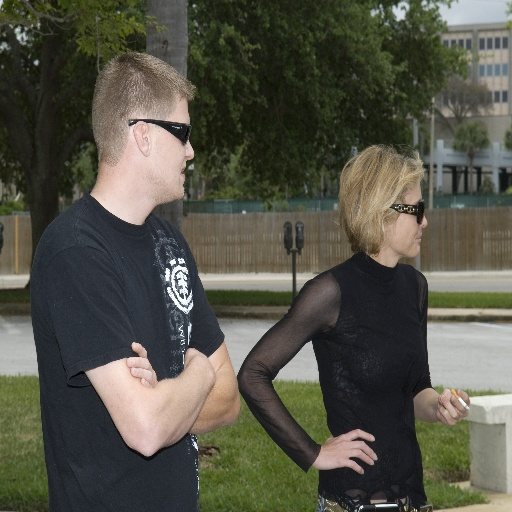hand: (320, 429, 385, 487), (125, 340, 158, 388), (434, 386, 471, 427), (181, 345, 216, 381)
